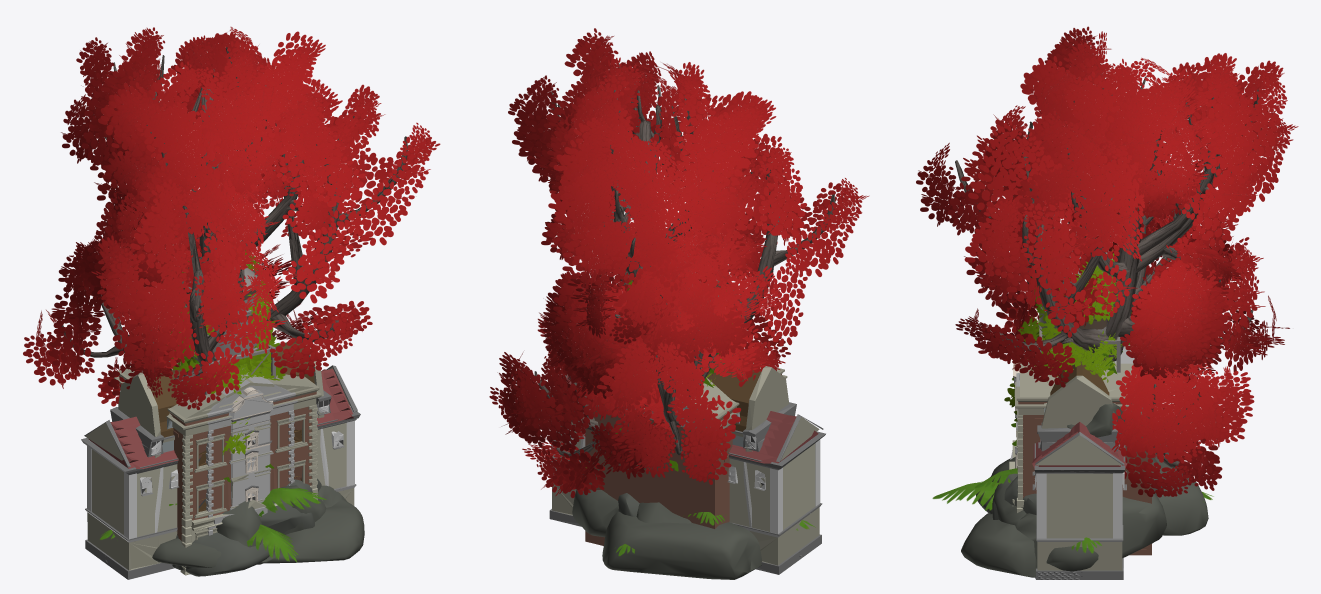
Rendered from kit.glb.
3 views of the same model, side by side, from view 1: azimuth 30°, elevation 25°; view 2: azimuth 150°, elevation 25°; view 3: azimuth 270°, elevation 25° (orthographic). The views are drawn at different scales.
Visible parts, largest first — view 1: TwistedTree_3 (×2), TwistedTree_5 (×2), Building1_Large (×2), Building3_Big (×2), Environment_Cliff4, Building3_Small, Building4 (×2), Building2_Large (×2), Environment_Cliff1, Fern_1, WaterTower, CommonTree_3 (+1 smaller); view 2: TwistedTree_3 (×2), TwistedTree_5 (×2), Building1_Large (×2), Environment_Cliff4, Building3_Big, Building3_Small, Building2_Large (×2); view 3: TwistedTree_3 (×2), TwistedTree_5 (×2), Building1_Large (×2), Environment_Cliff4, Building3_Big, Building2_Large (×2), Fern_1, CommonTree_4, CommonTree_2, Environment_Cliff1, CommonTree_3, WaterTower (+1 smaller).
Boxes of the visible parts, bbox=[...] form: TwistedTree_3 (×2): bbox=[23, 26, 440, 409]; TwistedTree_5 (×2): bbox=[72, 27, 385, 333]; Building1_Large (×2): bbox=[81, 365, 360, 579]; Building3_Big (×2): bbox=[114, 363, 321, 575]; Environment_Cliff4: bbox=[87, 485, 364, 567]; Building3_Small: bbox=[205, 368, 297, 535]; Building4 (×2): bbox=[228, 387, 274, 506]; Building2_Large (×2): bbox=[118, 339, 324, 457]; Environment_Cliff1: bbox=[172, 478, 321, 576]; Fern_1: bbox=[100, 488, 326, 561]; WaterTower: bbox=[182, 260, 272, 394]; CommonTree_3: bbox=[167, 287, 285, 423]; TwistedTree_3 (×2): bbox=[489, 28, 869, 497]; TwistedTree_5 (×2): bbox=[515, 51, 783, 406]; Building1_Large (×2): bbox=[549, 374, 825, 574]; Environment_Cliff4: bbox=[572, 474, 761, 579]; Building3_Big: bbox=[584, 362, 787, 545]; Building3_Small: bbox=[608, 414, 692, 522]; Building2_Large (×2): bbox=[702, 361, 789, 451]; TwistedTree_3 (×2): bbox=[916, 37, 1298, 497]; TwistedTree_5 (×2): bbox=[983, 26, 1287, 382]; Building1_Large (×2): bbox=[1032, 422, 1127, 579]; Environment_Cliff4: bbox=[961, 403, 1208, 577]; Building3_Big: bbox=[1009, 337, 1155, 555]; Building2_Large (×2): bbox=[1041, 354, 1116, 428]; Fern_1: bbox=[932, 468, 1213, 553]; CommonTree_4: bbox=[1034, 248, 1123, 348]; CommonTree_2: bbox=[1004, 316, 1122, 407]; Environment_Cliff1: bbox=[976, 476, 1162, 519]; CommonTree_3: bbox=[1012, 249, 1131, 382]; WaterTower: bbox=[1038, 232, 1120, 372].
Size of the model in its own units: 11.36 by 16.4 by 11.51.
46 materials, 14 textured.
